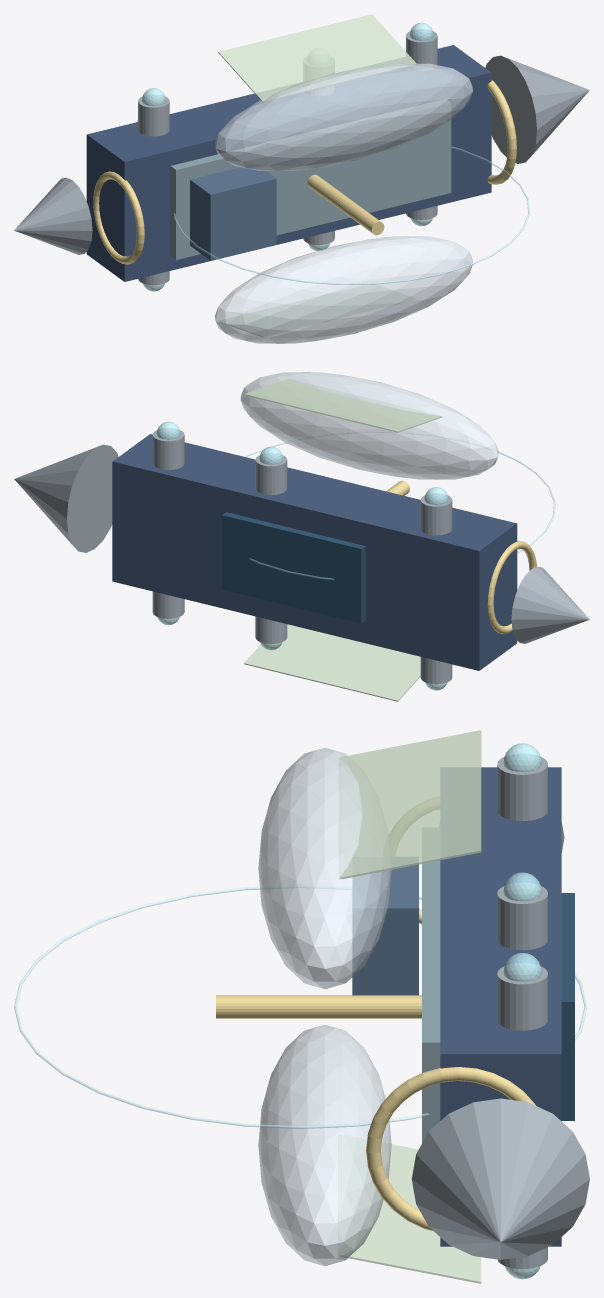
Rendered from SKYSHIP_12_COVENANT_ARK_CARRIER_covenant_ark_carrier.glb.
3 views of the same model, one above another, from view 1: azimuth 30°, elevation 25°; view 2: azimuth 150°, elevation 25°; view 3: azimuth 270°, elevation 25° (orthographic). The views are drawn at different scales.
Visible parts, largest first — view 1: aetherwood_hull, upper_deck, left_aether_cell, right_aether_cell, right_lift_sail, command_cabin, forward_ram, left_lift_sail, stern_finial, stern_docking_ring, central_mast, right_thruster_-3.92 (+4 smaller); view 2: aetherwood_hull, right_aether_cell, lower_hangar_bay, left_lift_sail, forward_ram, right_lift_sail, stern_finial, right_thruster_4.26, right_thruster_1.12, right_thruster_-3.92, stern_docking_ring, left_thruster_4.26 (+3 smaller); view 3: aetherwood_hull, left_aether_cell, forward_ram, right_aether_cell, right_lift_sail, left_lift_sail, command_cabin, upper_deck, central_mast, forward_docking_ring, right_thruster_4.26, right_thruster_1.12 (+7 smaller).
Boxes of the visible parts, box(x1,y1,x2,y2) form: aetherwood_hull: box(86, 45, 491, 281); upper_deck: box(170, 99, 451, 259); left_aether_cell: box(215, 236, 472, 343); right_aether_cell: box(215, 63, 472, 170); right_lift_sail: box(218, 14, 416, 101); command_cabin: box(190, 164, 276, 260); forward_ram: box(485, 55, 589, 163); left_lift_sail: box(218, 284, 416, 336); stern_finial: box(14, 177, 92, 254); stern_docking_ring: box(93, 171, 144, 264); central_mast: box(307, 174, 384, 235); right_thruster_-3.92: box(138, 95, 169, 136); aetherwood_hull: box(112, 434, 517, 670); right_aether_cell: box(240, 372, 498, 479); lower_hangar_bay: box(222, 512, 365, 623); left_lift_sail: box(244, 624, 420, 701); forward_ram: box(14, 444, 118, 552); right_lift_sail: box(244, 378, 441, 432); stern_finial: box(511, 566, 589, 643); right_thruster_4.26: box(152, 428, 184, 469); right_thruster_1.12: box(255, 453, 287, 495); right_thruster_-3.92: box(420, 494, 452, 535); stern_docking_ring: box(487, 541, 536, 634); left_thruster_4.26: box(152, 591, 184, 618); aetherwood_hull: box(440, 767, 561, 1246); left_aether_cell: box(258, 1024, 391, 1266); forward_ram: box(411, 1098, 589, 1259); right_aether_cell: box(258, 747, 391, 989); right_lift_sail: box(339, 730, 481, 879); left_lift_sail: box(339, 1134, 481, 1283); command_cabin: box(352, 857, 418, 995); upper_deck: box(422, 828, 440, 1142); central_mast: box(216, 995, 421, 1018); forward_docking_ring: box(366, 1067, 535, 1231); right_thruster_4.26: box(497, 963, 547, 1030); right_thruster_1.12: box(497, 883, 547, 950).
Size of the model in its own units: 17.58 by 7.88 by 9.5.
